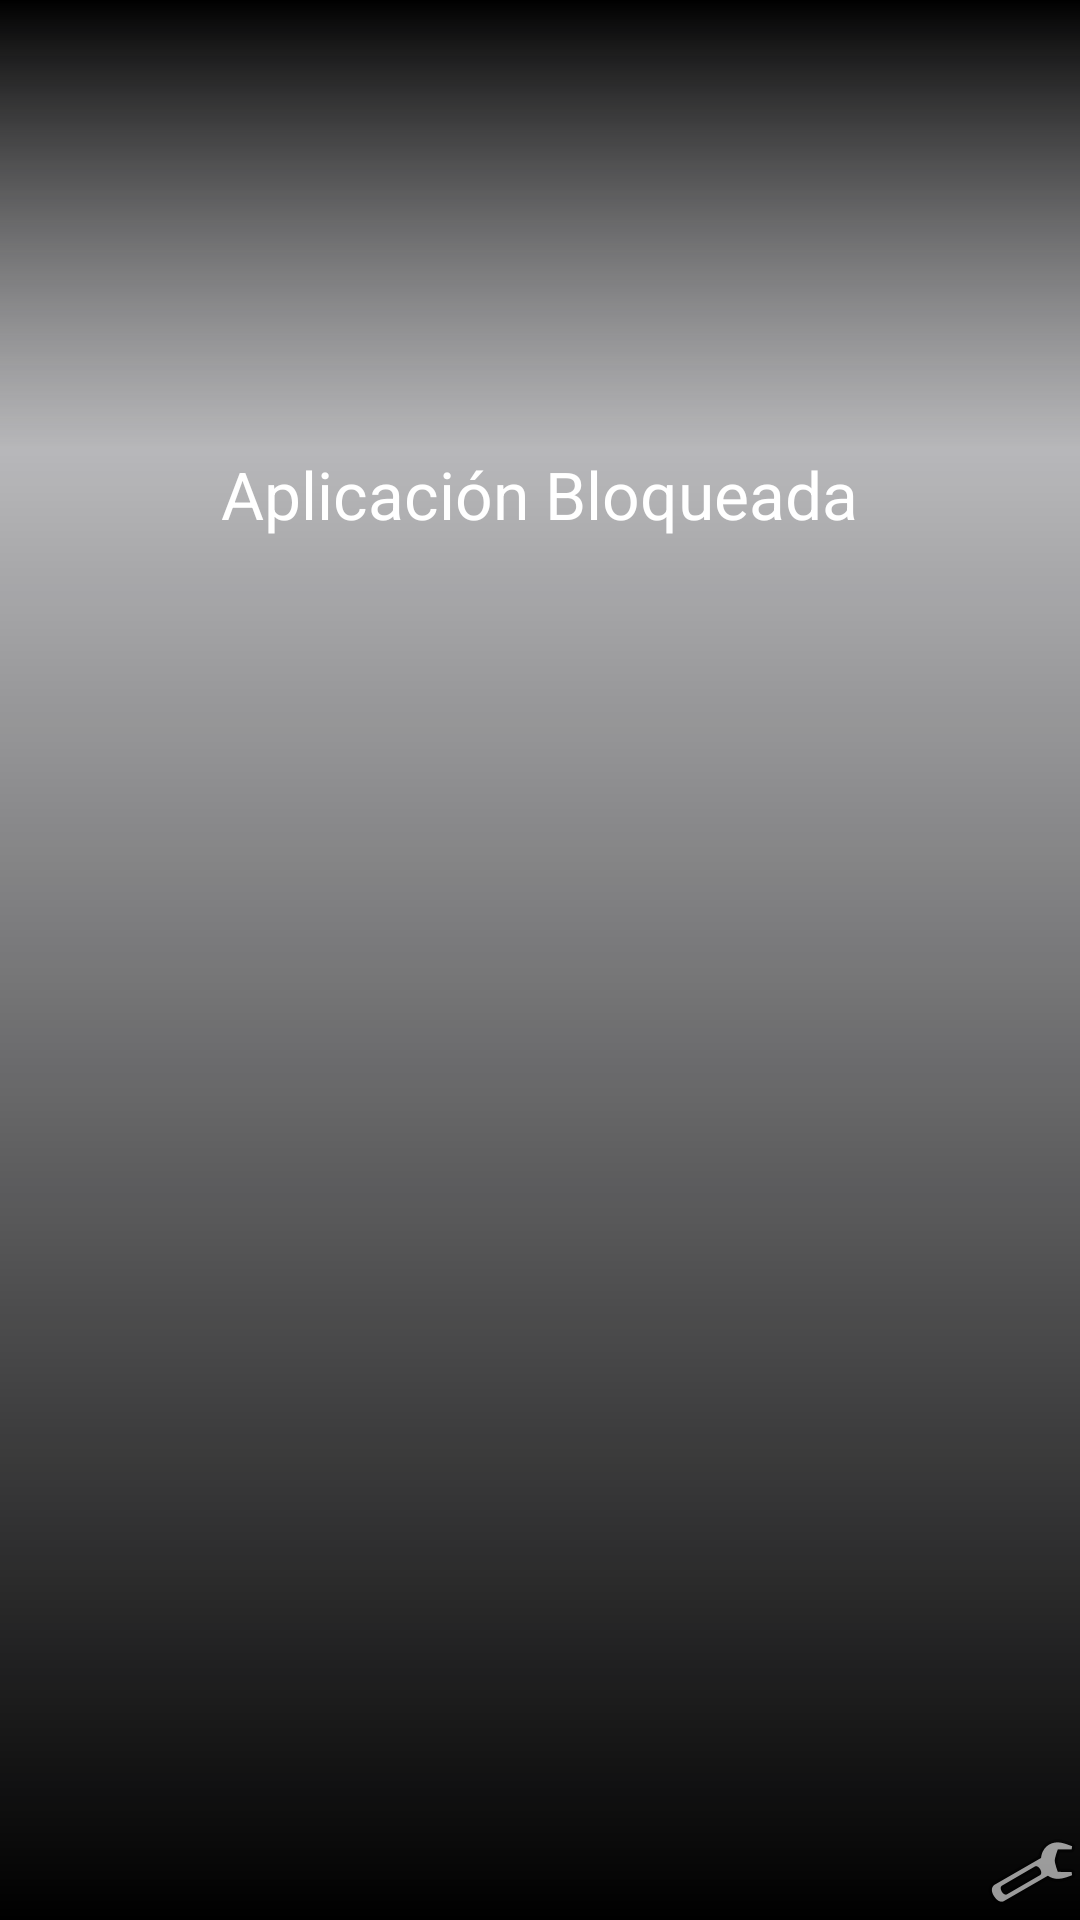

Icon bounding boxes for this 1080w x 1920h phone screenshot, format detection(x1, y1, x2, y2):
preferences: detection(992, 1842, 1072, 1902)
